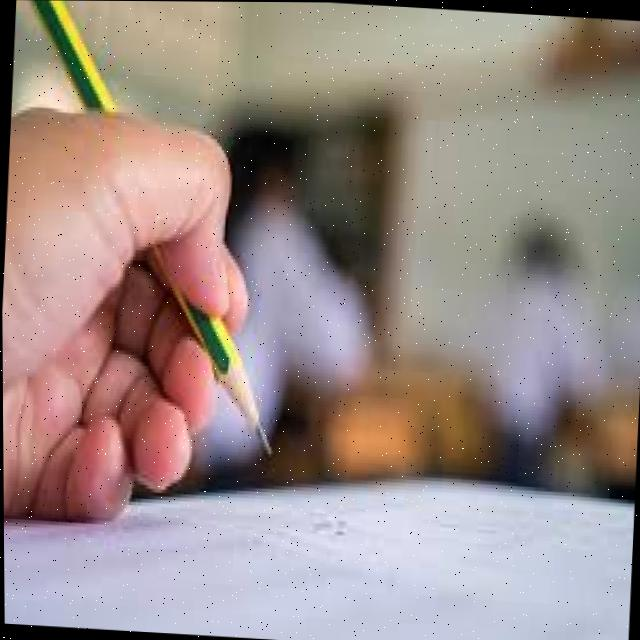pencil: (190, 317, 279, 472), (30, 0, 127, 111)
